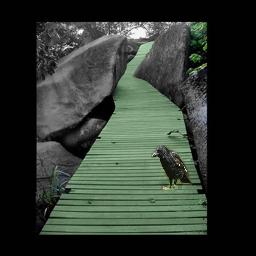Crow: (152, 146, 193, 191)
